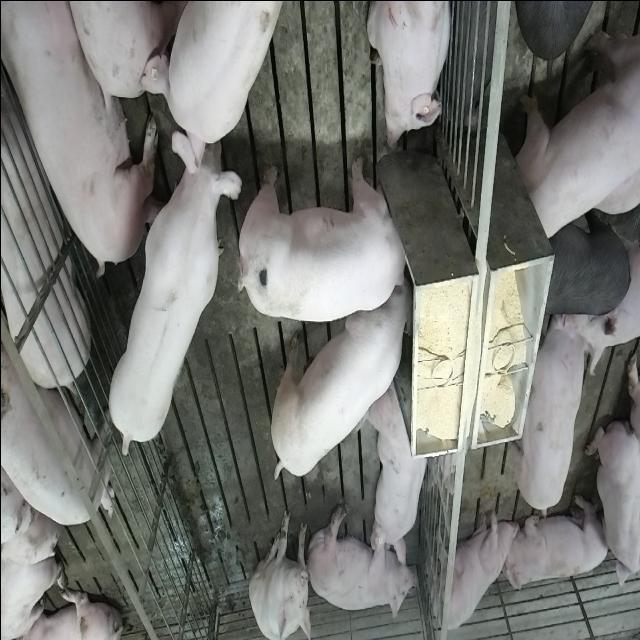Feeding: (264, 278, 412, 482), (232, 156, 408, 324)
Lateral_lying: (5, 0, 161, 273), (304, 502, 417, 622)
Sitting: (424, 499, 515, 640), (248, 506, 312, 638)
Standing: (108, 118, 242, 454), (0, 37, 88, 391), (516, 18, 638, 246), (0, 334, 110, 530), (137, 0, 286, 144), (512, 308, 590, 524), (542, 213, 630, 320)
Sternal_lying: (366, 0, 454, 150), (368, 382, 432, 568), (505, 494, 610, 595), (583, 415, 637, 597)
